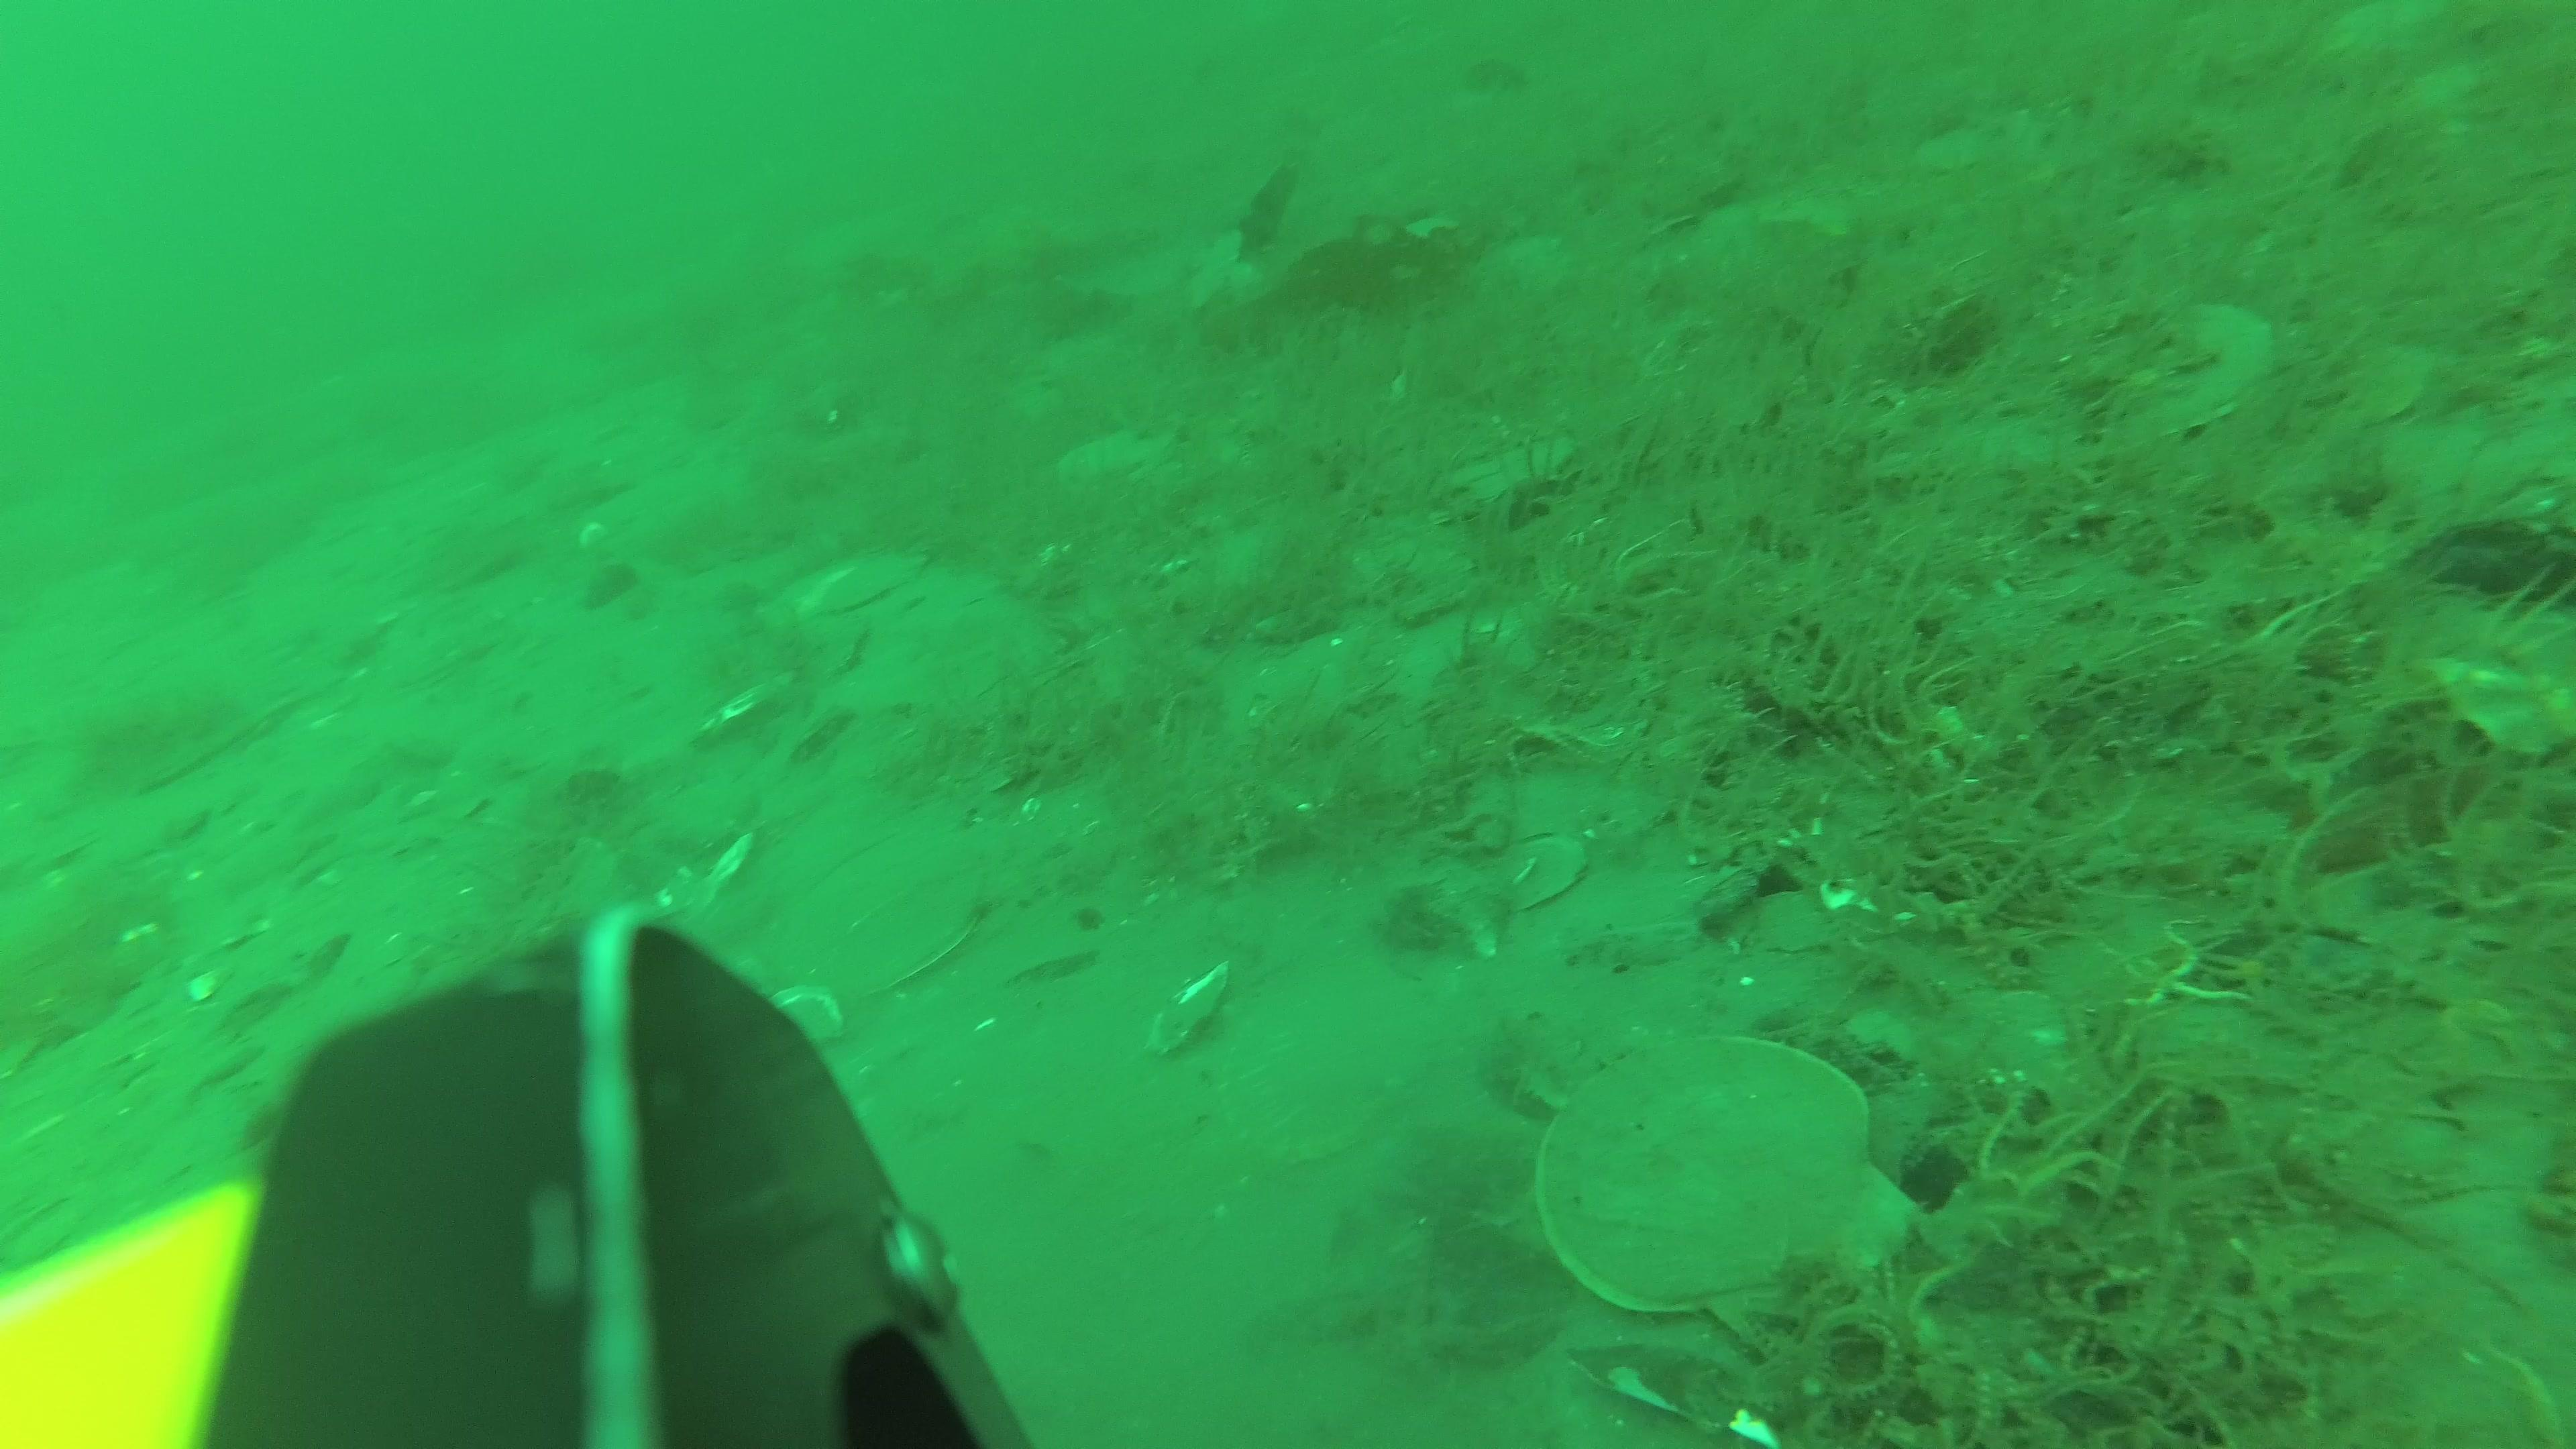scallop: (1532, 1031, 1914, 1355), (1230, 959, 1445, 1162), (786, 824, 1012, 996), (2130, 299, 2279, 439), (780, 548, 927, 619), (1056, 435, 1171, 495)
